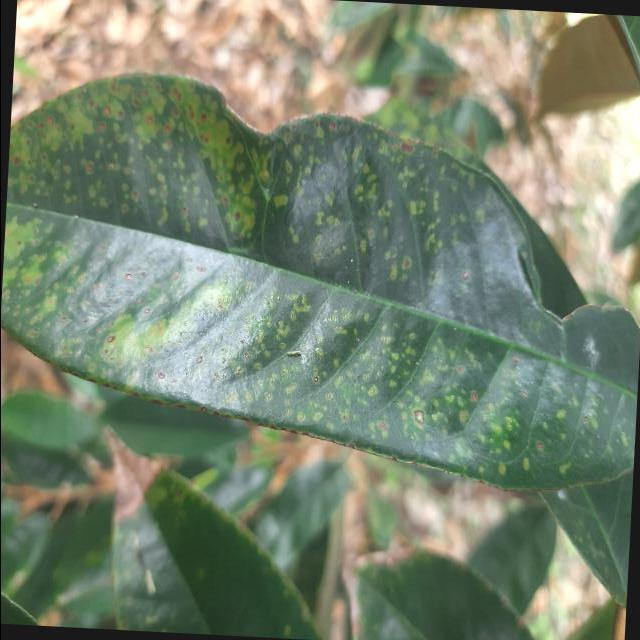Leaf Spot: (1, 52, 640, 512)
